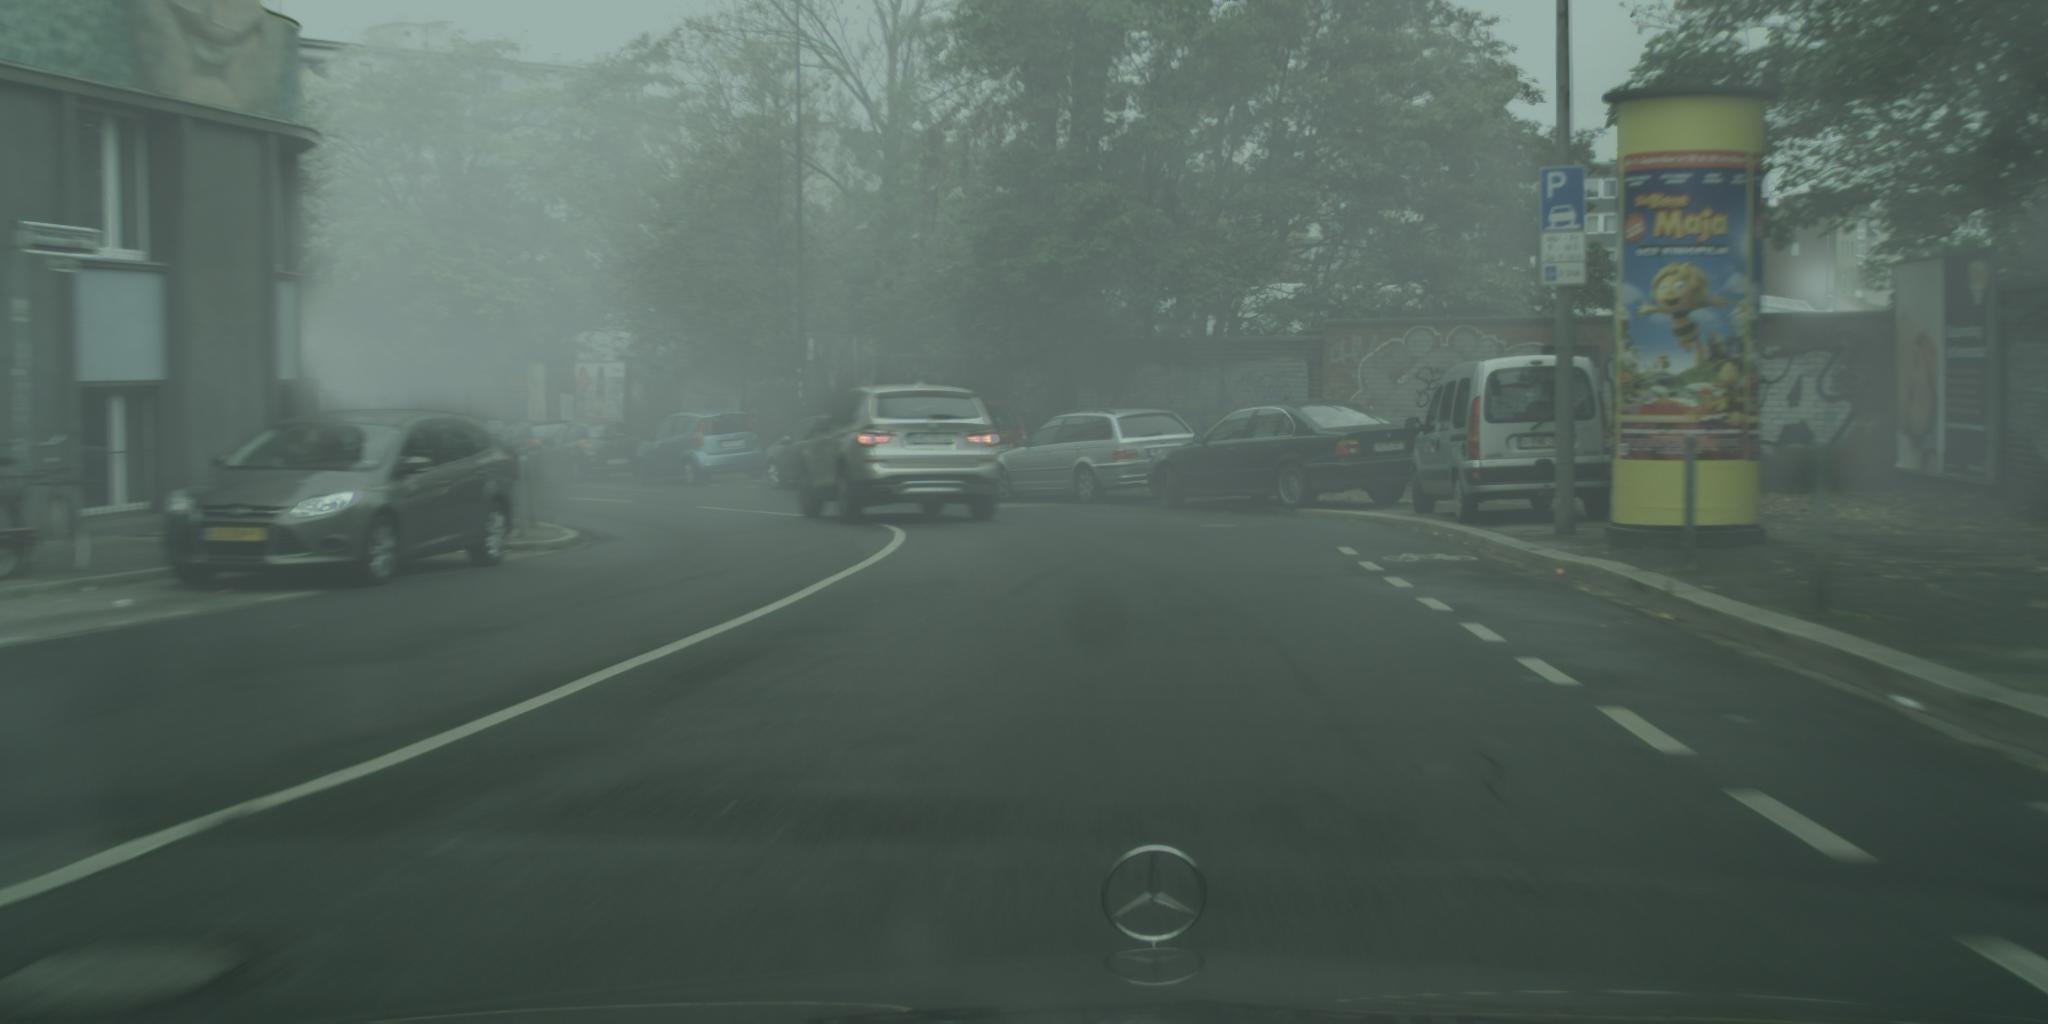car: (165, 411, 519, 590), (1405, 357, 1620, 526), (1145, 400, 1424, 512), (799, 383, 1003, 525), (987, 409, 1217, 507), (637, 410, 769, 487), (536, 421, 650, 483), (764, 414, 846, 491), (492, 421, 577, 481), (978, 401, 1031, 465), (462, 422, 511, 453)
